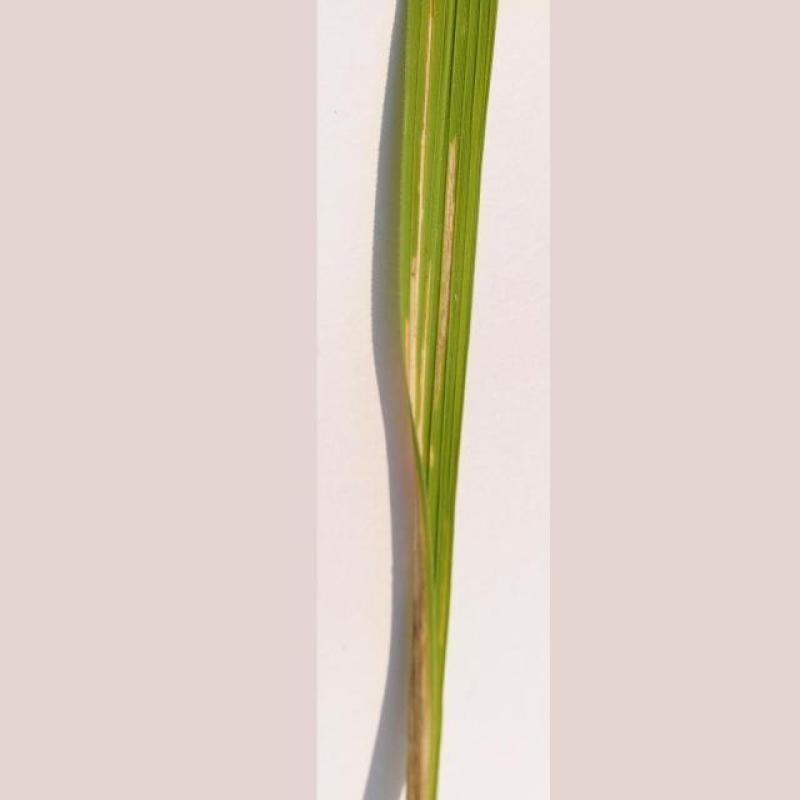Bacterial_Leaf_Blight: (385, 126, 476, 800)
